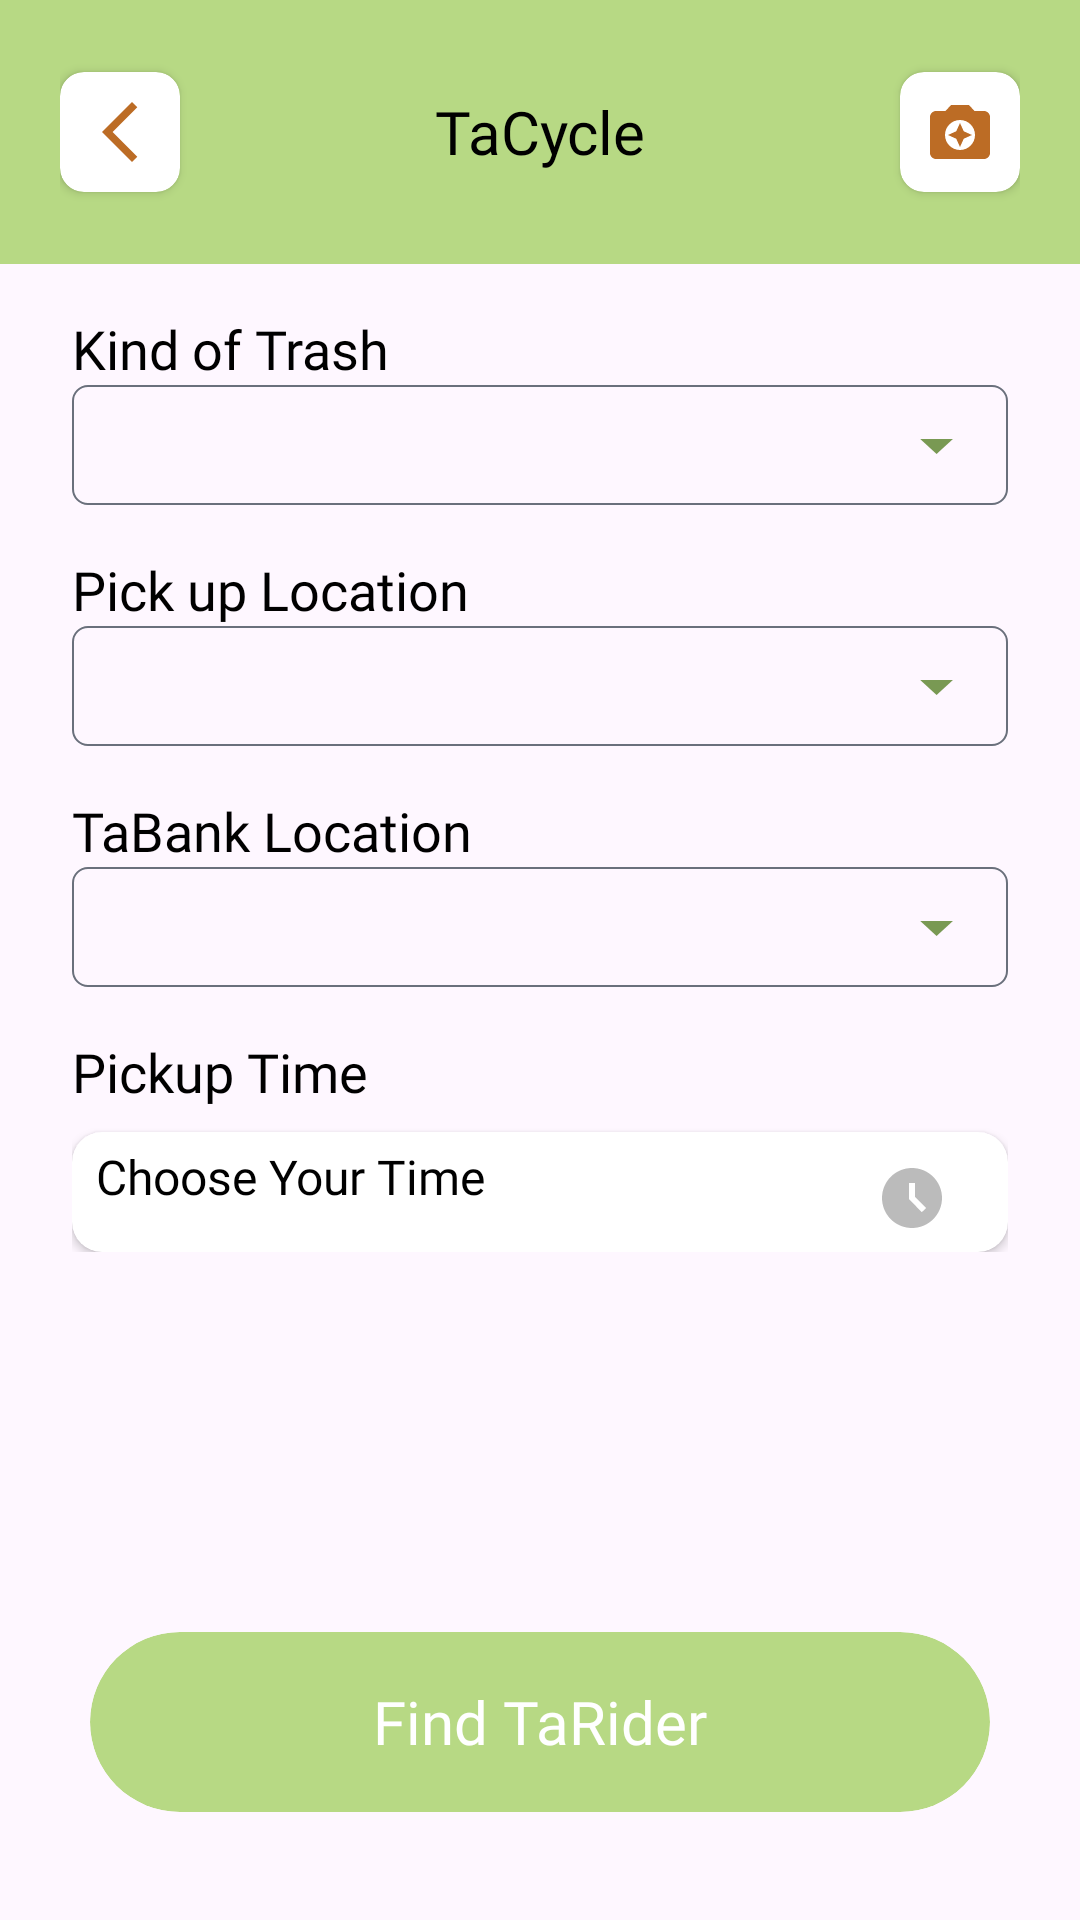

Icon click points for this 1080×1920 phone screenshot, format [x,y]:
back: [120,132]
camera: [960,132]
